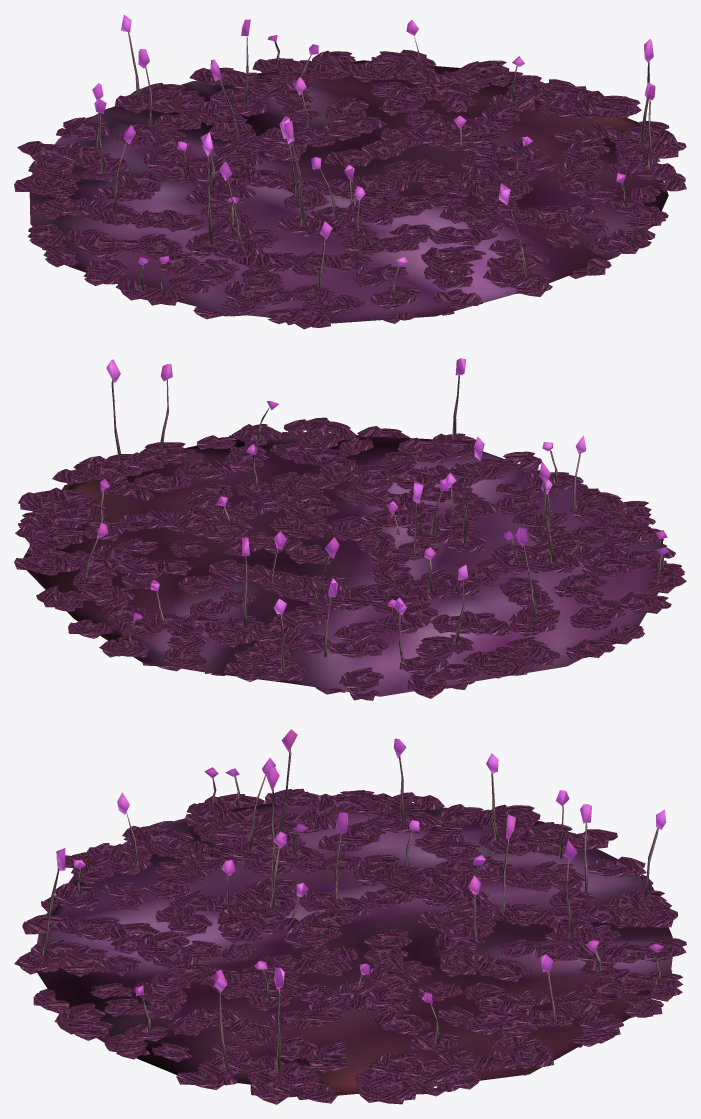
File: moss_02.glb
The picture shows the model from 3 angles, top to bottom: view 1: azimuth 30°, elevation 25°; view 2: azimuth 150°, elevation 25°; view 3: azimuth 270°, elevation 25°; orthographic projection. The views are drawn at different scales.
Parts seen in each view (by area): view 1: export; view 2: export; view 3: export.
Boxes of the visible parts, box(x1,y1,x2,y2) form: export: box(14, 15, 686, 329); export: box(14, 358, 686, 700); export: box(14, 729, 686, 1104).
Bounding box in the file's own units: 2.13 × 0.464 × 1.92.
Materials: 3 (3 with a texture image).
